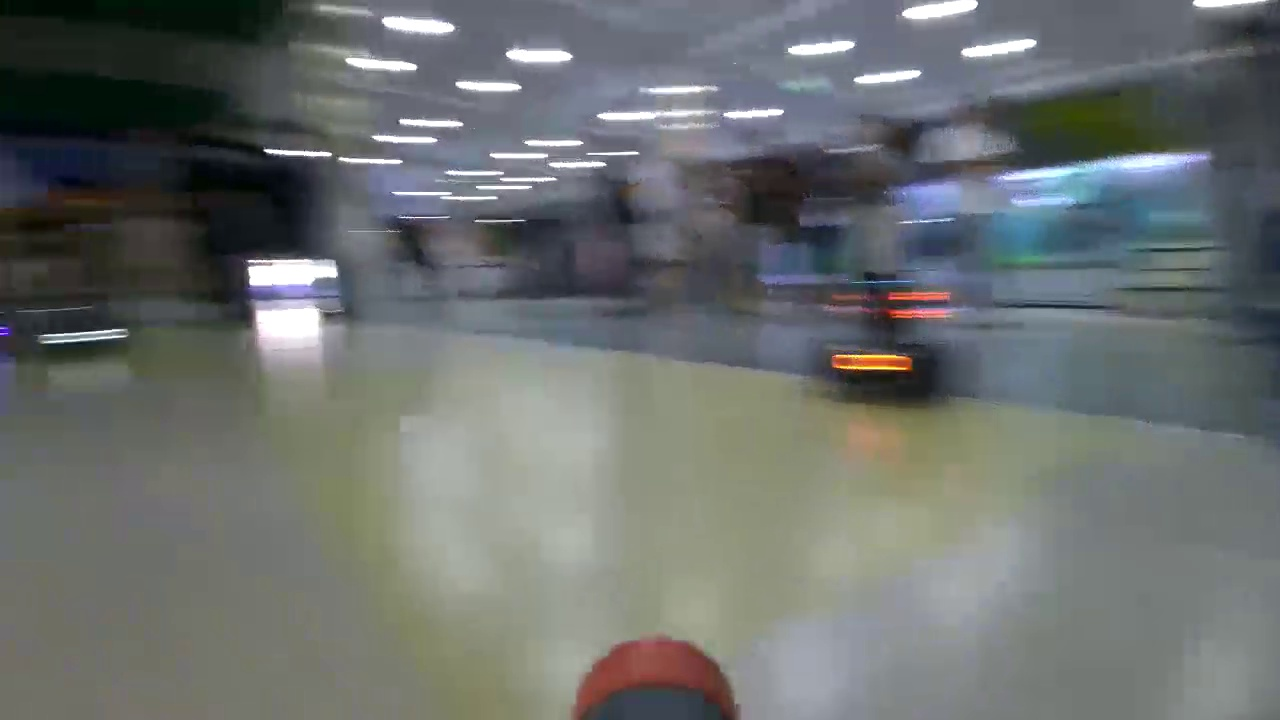robot: (818, 282, 975, 408)
